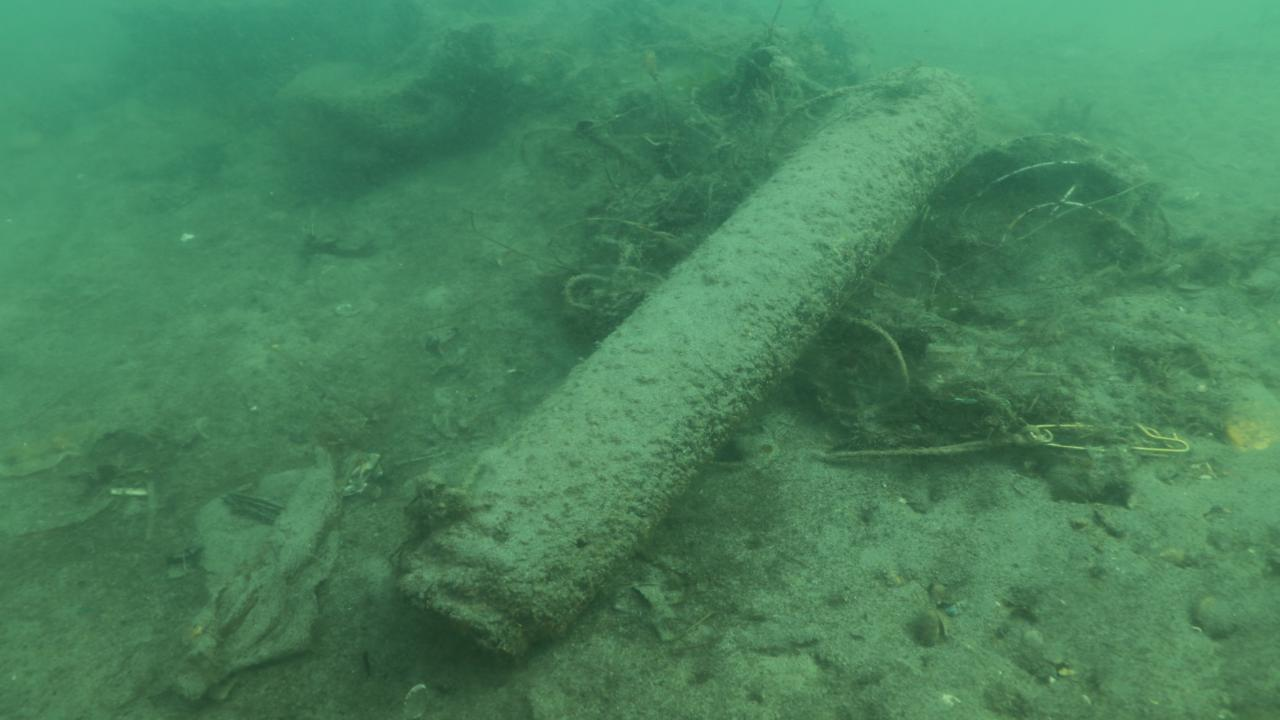eel fish trap: (399, 57, 988, 667)
